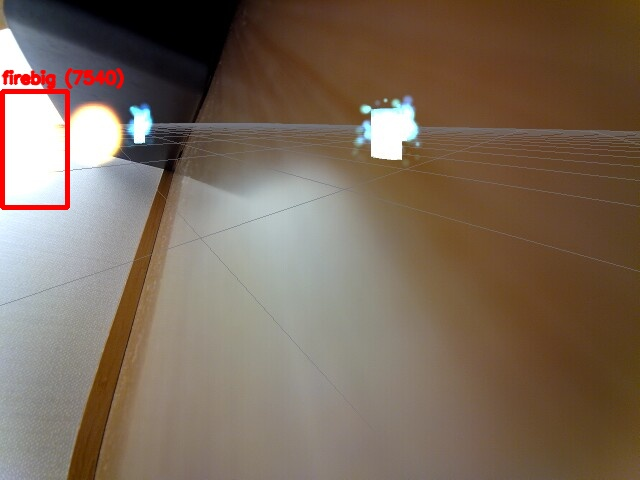firebig: (2, 91, 67, 207)
